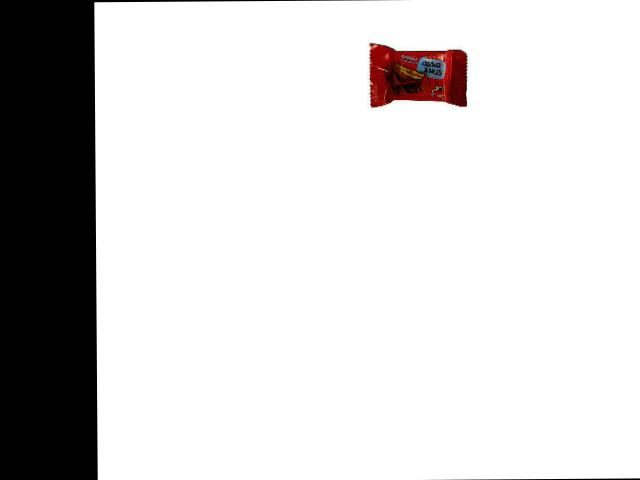chocolate: (368, 36, 475, 106)
